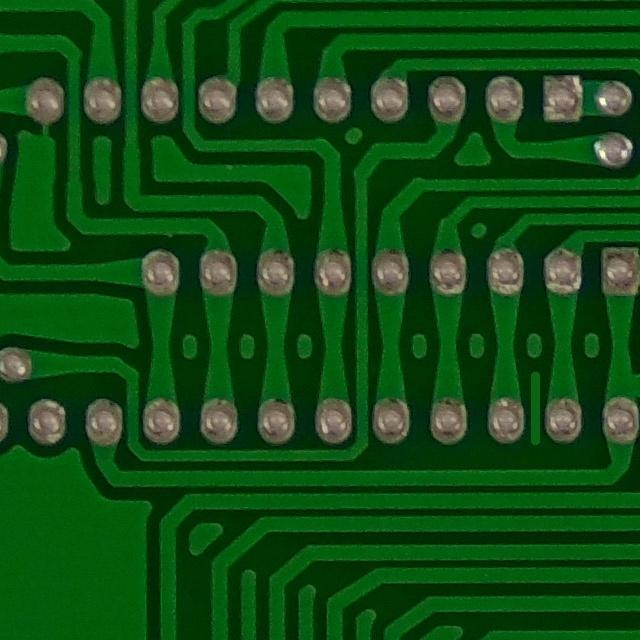spurious_copper: (519, 362, 552, 455)
